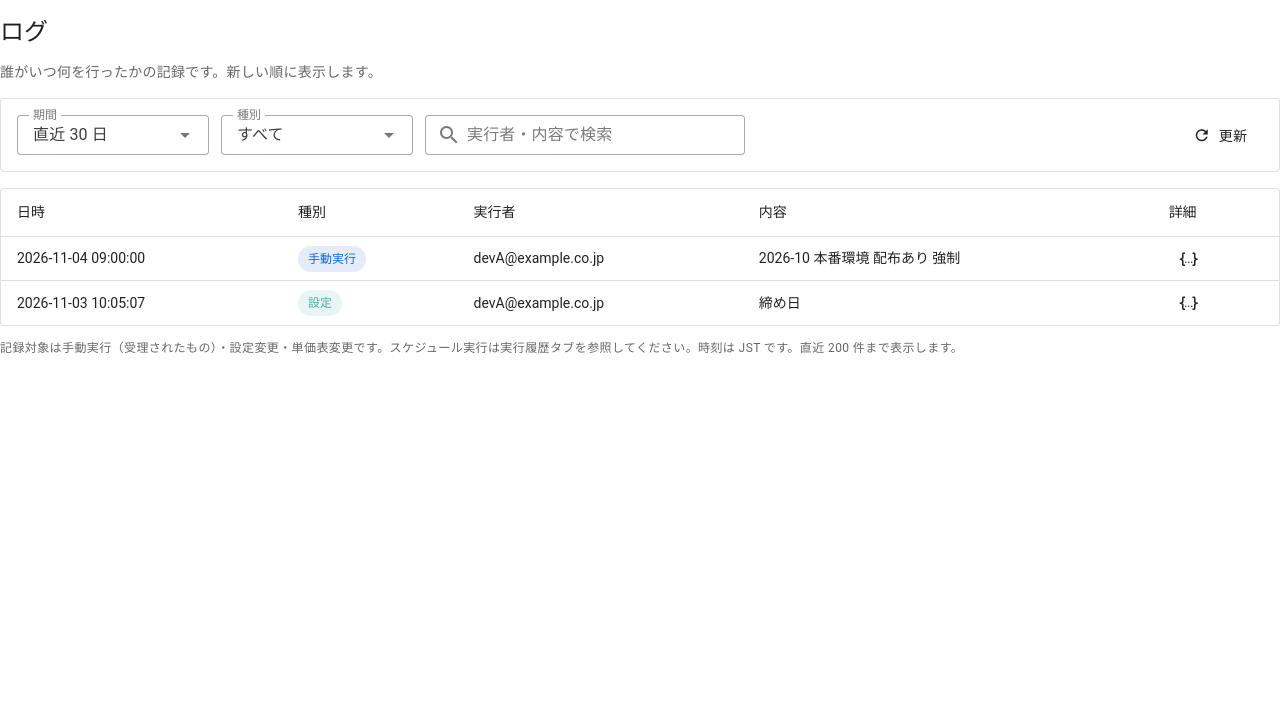
LogsView › 詳細ボタンで before / after の JSON を出す
Click the button with test id "logs-detail-0". click: (1189,259)
box: [1169,239,1209,279]
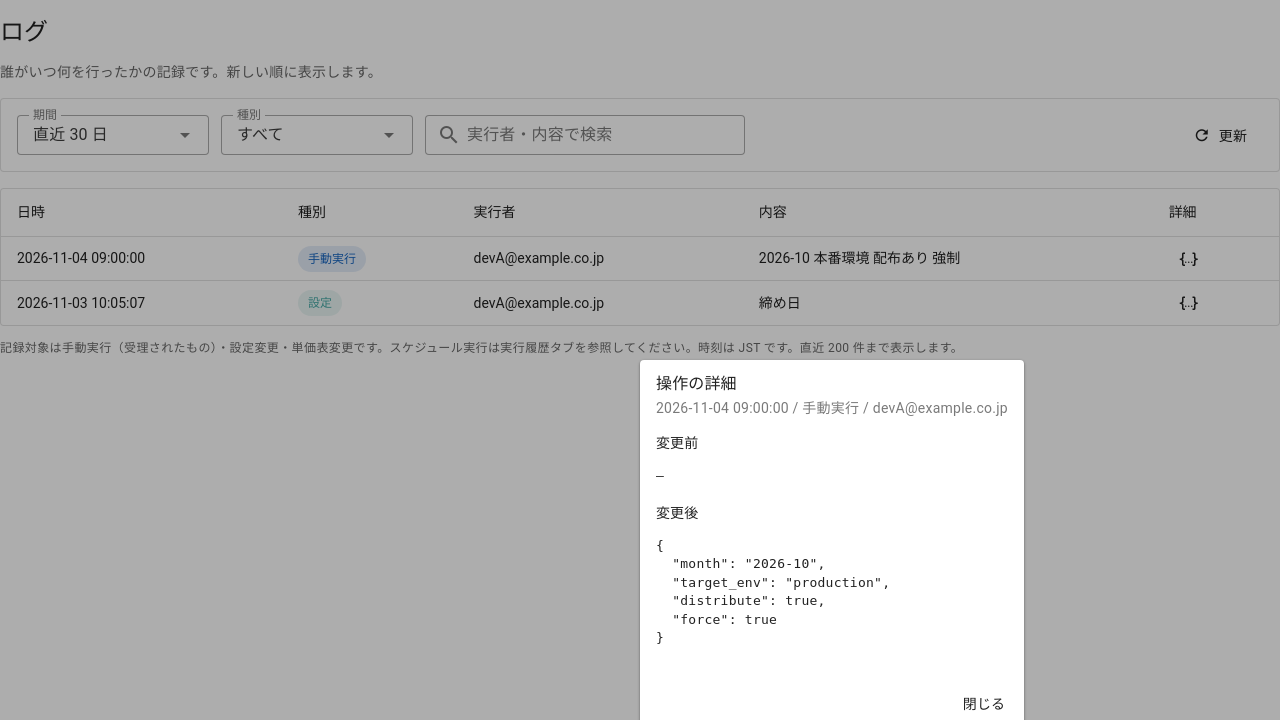
Expected: the text with test id "logs-detail-before" reads "—", [656,468,664,483]
Expected: the element with test id "logs-detail-dialog" shows "\"month\": \"2026-10\"", [656,538,890,645]
